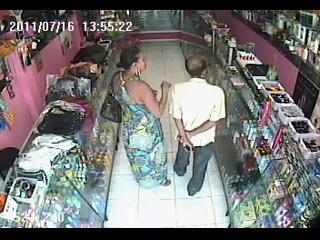Normal: (111, 46, 172, 188), (170, 55, 227, 197)
